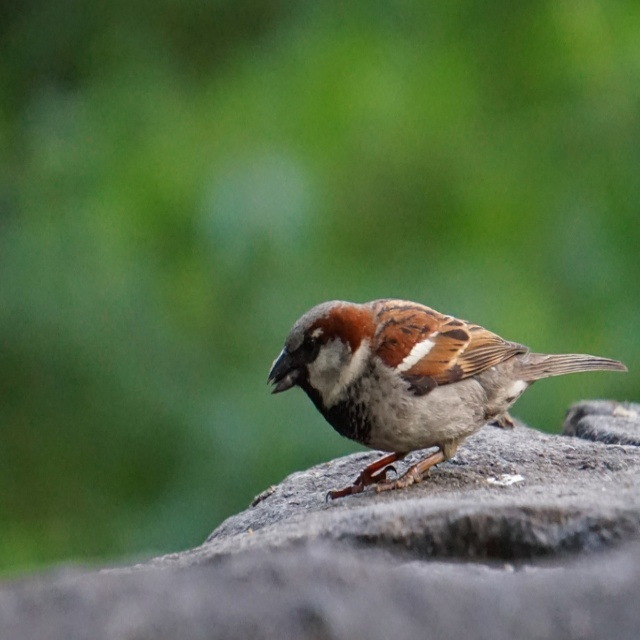Sparrow: (270, 291, 636, 492)
